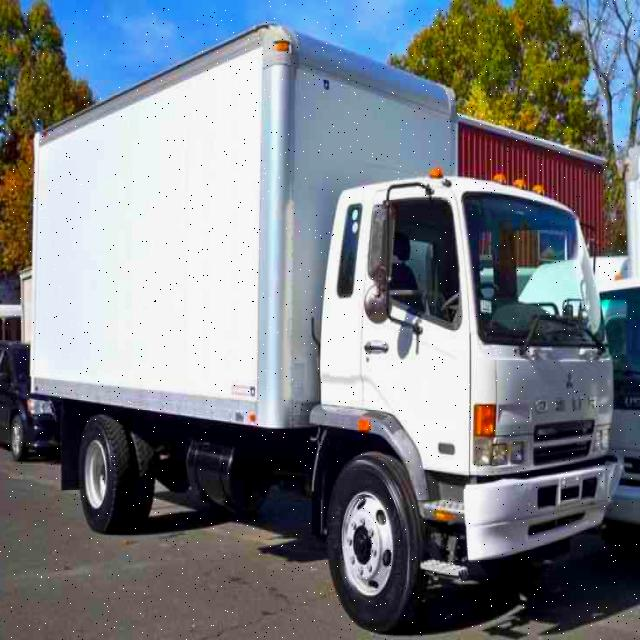truck: (34, 23, 624, 625)
